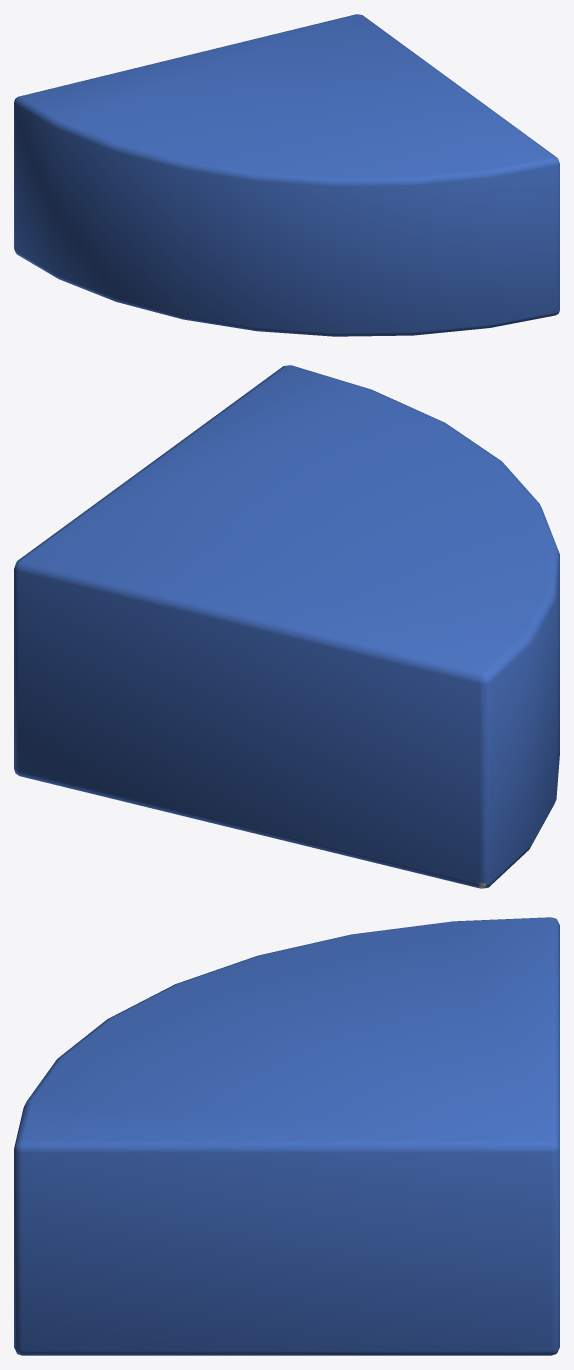
File: SM_90DegreesPiece (1).fbx
3 views of the same model, one above another, from view 1: azimuth 30°, elevation 25°; view 2: azimuth 150°, elevation 25°; view 3: azimuth 270°, elevation 25° (orthographic). The views are drawn at different scales.
Parts seen in each view (by area): view 1: SM_90DegreesPiece__1_; view 2: SM_90DegreesPiece__1_; view 3: SM_90DegreesPiece__1_.
Boxes of the visible parts, x1,y1,x2,y2 form: SM_90DegreesPiece__1_: (14,14,559,336); SM_90DegreesPiece__1_: (14,365,559,888); SM_90DegreesPiece__1_: (14,917,559,1355).
Size of the model in its own units: 59.9 by 26 by 59.9.
1 material, 1 textured.
